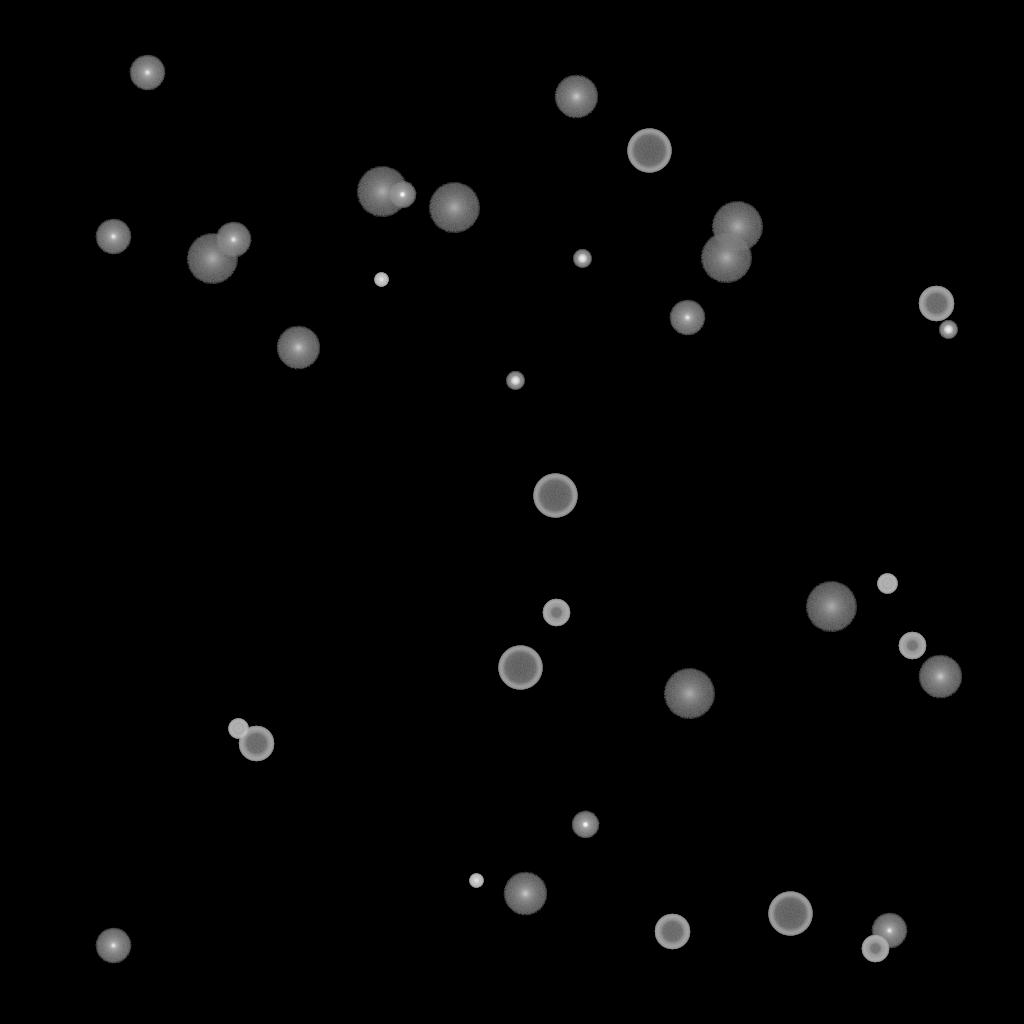depth:-10: (571, 811, 599, 839), (388, 181, 416, 209)
depth:-20: (506, 372, 524, 390), (573, 250, 591, 268), (939, 321, 957, 339)
depth:-30: (374, 273, 388, 287), (469, 874, 483, 888)
depth:-40: (877, 574, 897, 594), (228, 719, 248, 739)
depth:-50: (898, 632, 926, 660), (861, 935, 889, 963), (542, 599, 570, 627)
depth:-60: (918, 286, 954, 322), (238, 726, 274, 762), (654, 914, 690, 950)
depth:-70: (498, 646, 542, 690), (768, 892, 812, 936), (533, 474, 577, 518), (627, 129, 671, 173)
depth:0: (95, 219, 131, 255), (129, 55, 165, 91), (215, 222, 251, 258), (871, 913, 907, 949), (95, 928, 131, 964), (669, 300, 705, 336)
depth:10: (276, 326, 320, 370), (918, 655, 962, 699), (554, 75, 598, 119), (503, 872, 547, 916)
depth:20: (663, 669, 715, 719), (711, 202, 763, 252), (186, 234, 238, 284), (428, 183, 480, 233), (805, 582, 857, 632), (700, 233, 752, 283), (356, 167, 408, 217)
